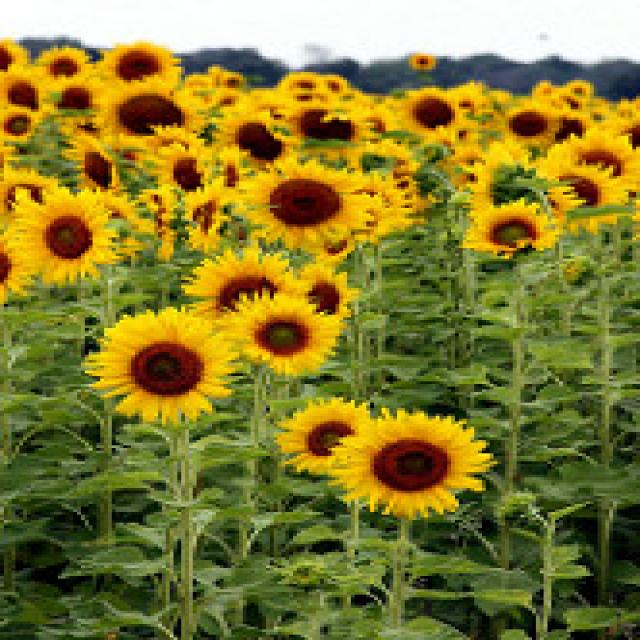sunflower: (81, 304, 231, 416), (332, 410, 489, 514), (235, 158, 374, 254), (12, 188, 112, 281), (228, 296, 336, 379), (276, 400, 372, 472), (463, 197, 551, 267), (94, 92, 198, 148), (98, 36, 183, 89), (62, 135, 131, 196), (397, 86, 463, 142), (282, 104, 362, 149), (497, 104, 559, 147)
